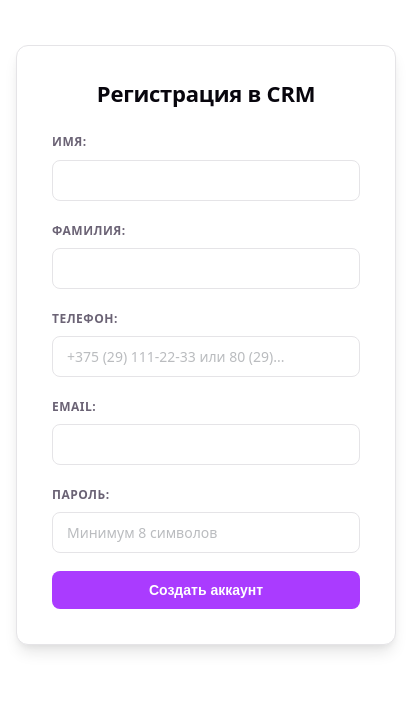
Test: SignUpPage - Юнит-тесты бизнес-логики (Vitest) › 4. Должен показать ошибку, если код оператора не входит в разрешенный список бэкенда
Type "Иван" into the field labelled "Имя:" at x=206, y=180, box [52,160,360,201]
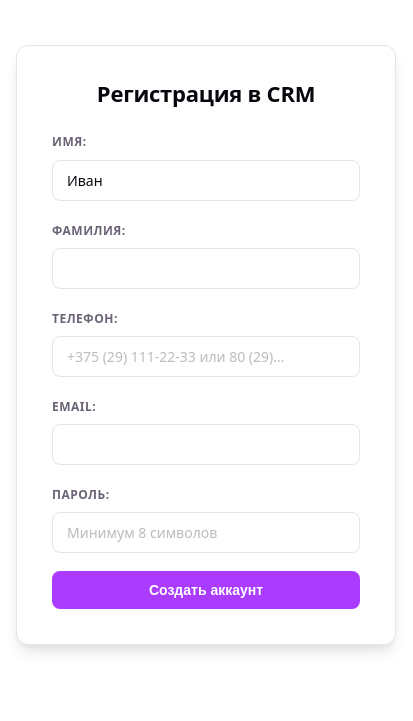
Type "Иванов" into the field labelled "Фамилия:" at x=206, y=268, box [52,248,360,289]
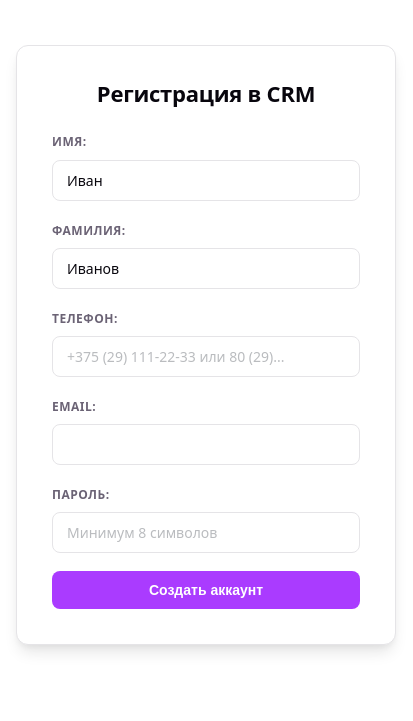
Type "+375221112233" into the field labelled "Телефон:" at x=206, y=357, box [52,336,360,377]
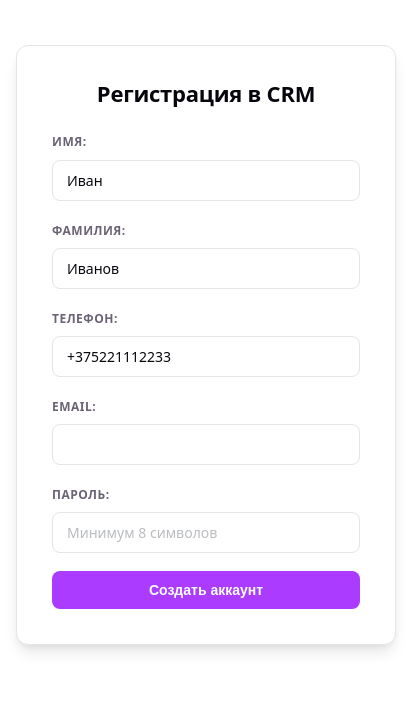
Type "test@example.com" into the field labelled "Email:" at x=206, y=445, box [52,424,360,465]
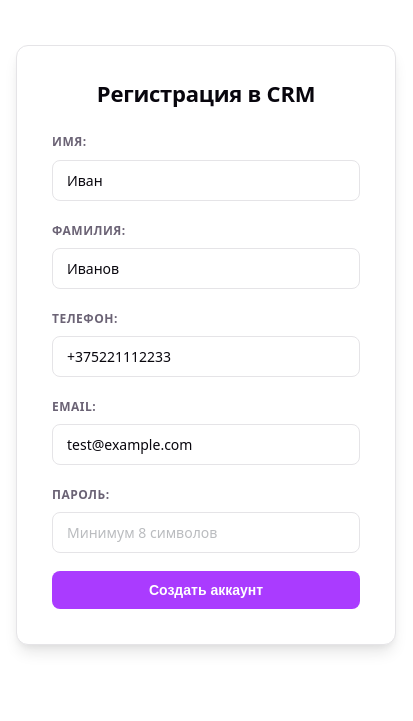
Type "password123" into the password field labelled "Пароль:" at x=206, y=533, box [52,512,360,554]
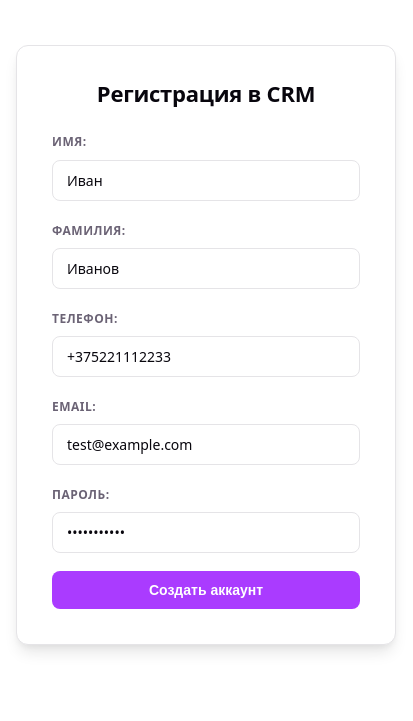
Click the button "Создать аккаунт" at x=206, y=590, box [52,572,360,610]
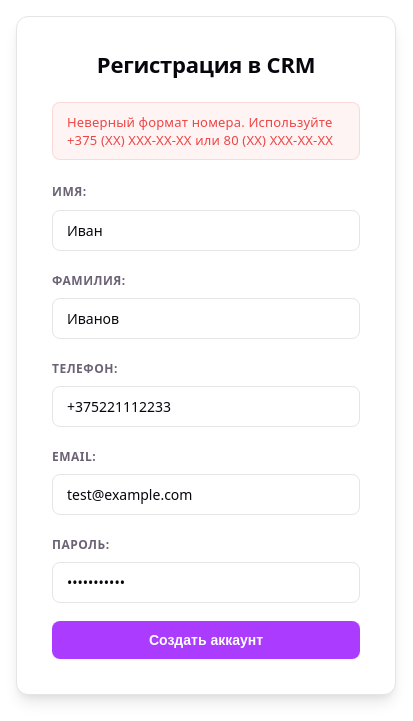
Expected: the text "Неверный формат номера" is shown, [67,113,333,149]
